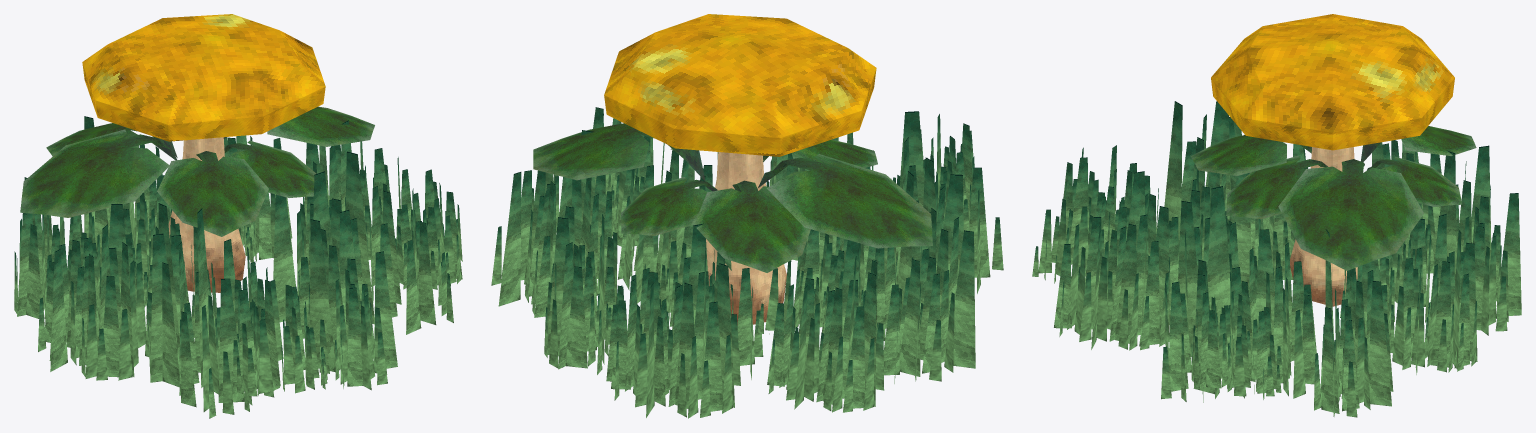
The model's file is prefab_03.glb.
3 renders of one model, left to right at view 1: azimuth 30°, elevation 25°; view 2: azimuth 150°, elevation 25°; view 3: azimuth 270°, elevation 25°, orthographic. The views are drawn at different scales.
Parts seen in each view (by area): view 1: PRFB_03-no-col; view 2: PRFB_03-no-col; view 3: PRFB_03-no-col.
Boxes of the visible parts, bbox=[...] form: PRFB_03-no-col: bbox=[14, 14, 462, 418]; PRFB_03-no-col: bbox=[491, 14, 1003, 418]; PRFB_03-no-col: bbox=[1032, 14, 1521, 417].
Bounding box in the file's own units: 2.55 × 1.63 × 2.58.
Materials: 2 (2 with a texture image).
